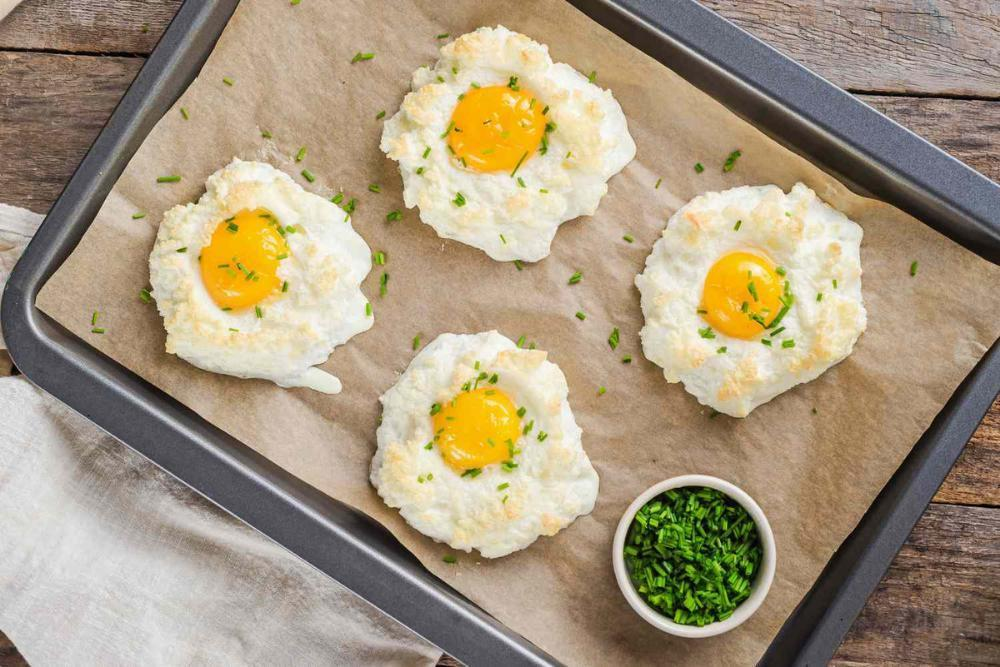buah_sayur_lainnya: (653, 500, 730, 599)
telur: (421, 75, 587, 225), (682, 214, 822, 368), (191, 184, 314, 358), (428, 357, 539, 530)
